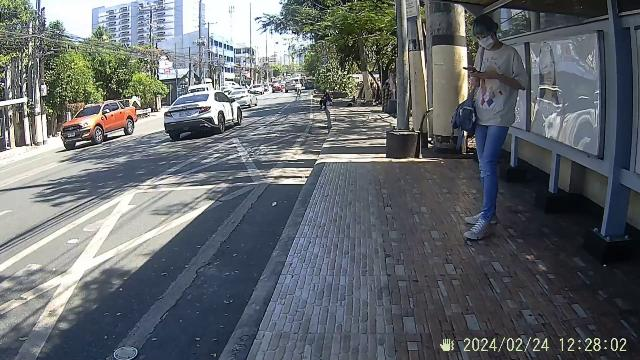car: (64, 98, 136, 142)
utility_post: (390, 8, 468, 156)
